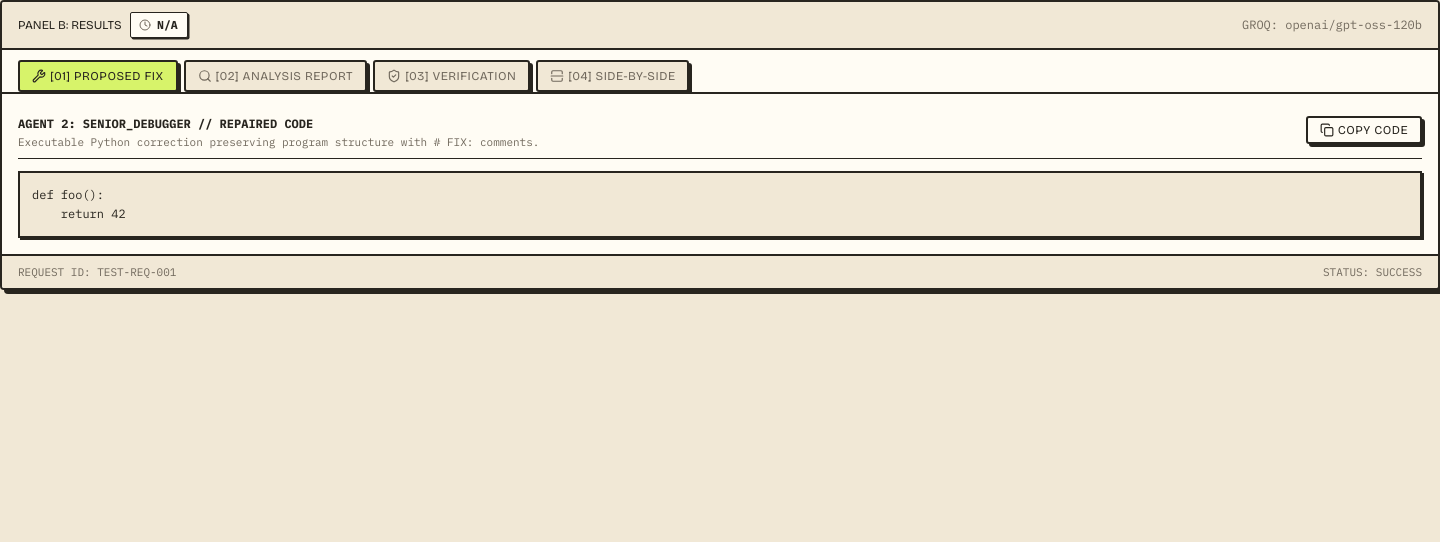
ResultsView Tabs & Integration Suite › allows seamless switching across all 4 results tabs including diff
Expected: the text "AGENT 2: SENIOR_DEBUGGER // REPAIRED CODE" is shown, [18,116,313,131]
What coordinates should you click on to do the following:
click the button "[02] ANALYSIS REPORT"
I would click on:
 (275, 76)
Its box is [184,60,367,92].
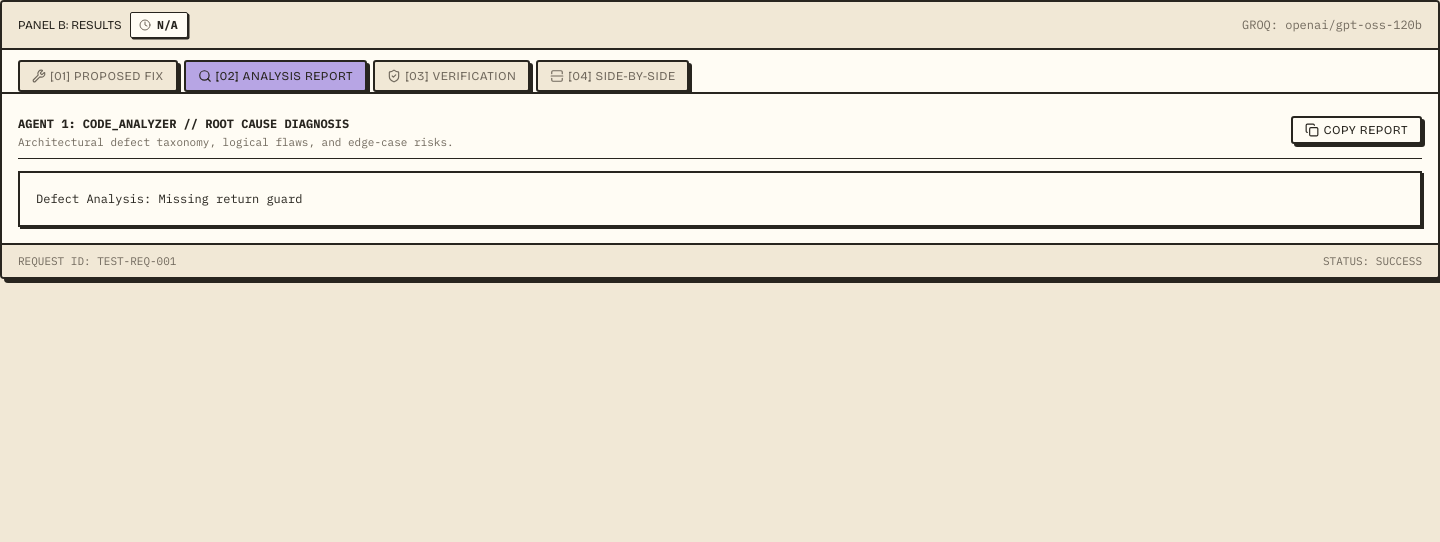
Expected: the text "AGENT 1: CODE_ANALYZER // ROOT CAUSE DIAGNOSIS" is shown, [18,116,349,131]
Expected: the text "Defect Analysis: Missing return guard" is shown, [18,171,1422,227]
What coordinates should you click on to do the following:
click the button "[03] VERIFICATION"
I would click on:
 (452, 76)
Its box is [373,60,530,92].
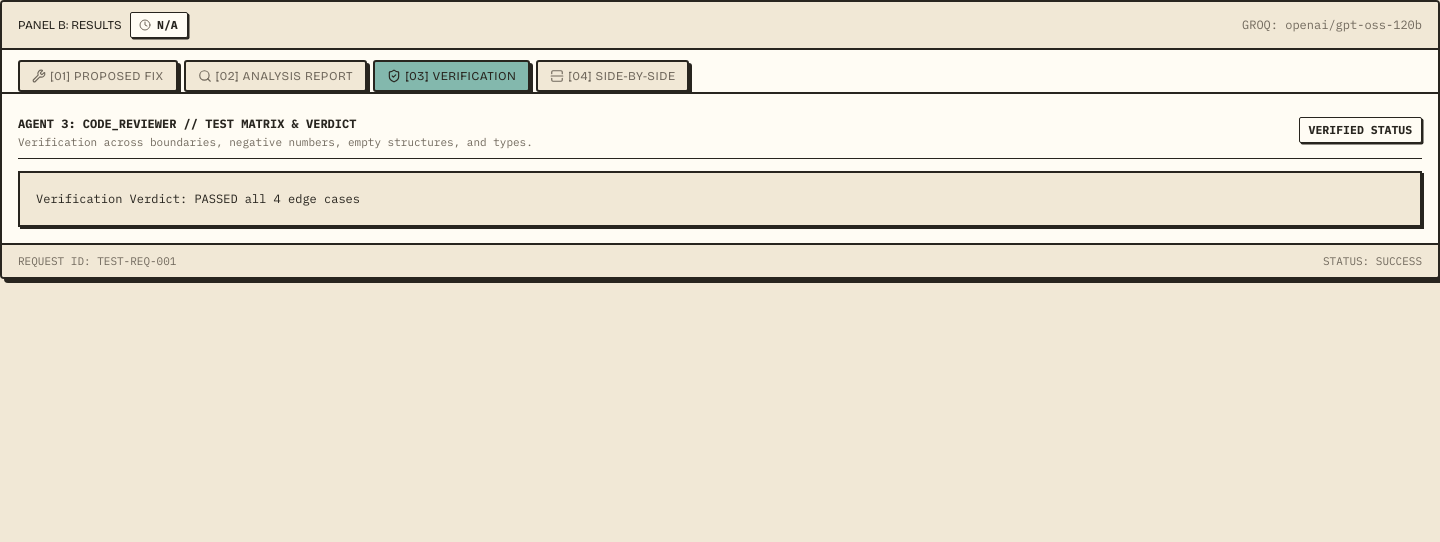
Expected: the text "AGENT 3: CODE_REVIEWER // TEST MATRIX & VERDICT" is shown, [18,116,356,131]
Expected: the text "Verification Verdict: PASSED all 4 edge cases" is shown, [18,171,1422,227]
What coordinates should you click on to do the following:
click the button "[04] SIDE-BY-SIDE"
I would click on:
 (613, 76)
Its box is [536,60,690,92].
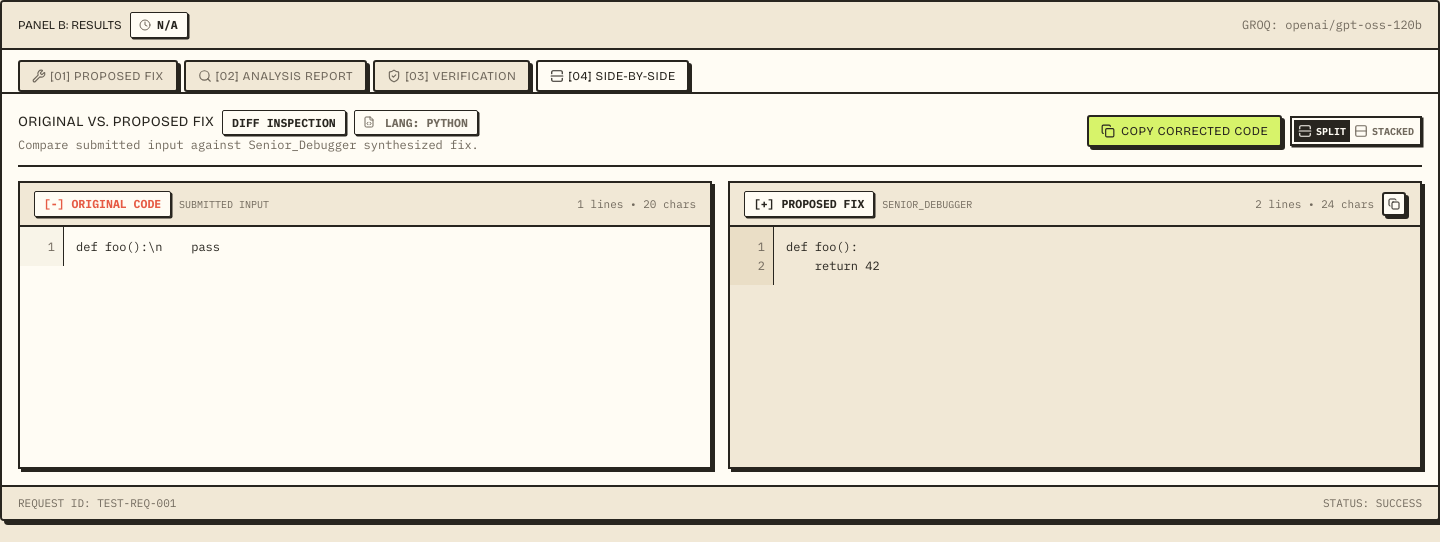
Expected: the heading "ORIGINAL VS. PROPOSED FIX" is shown, [18,112,214,132]
Expected: the text "[-] ORIGINAL CODE" is shown, [34,191,171,217]
Expected: the text "[+] PROPOSED FIX" is shown, [744,191,874,217]
Note: Can switch back to Proposed Fix
What coordinates should you click on to do the following:
click the button "[01] PROPOSED FIX"
I would click on:
 (98, 76)
Its box is [18,60,178,92].
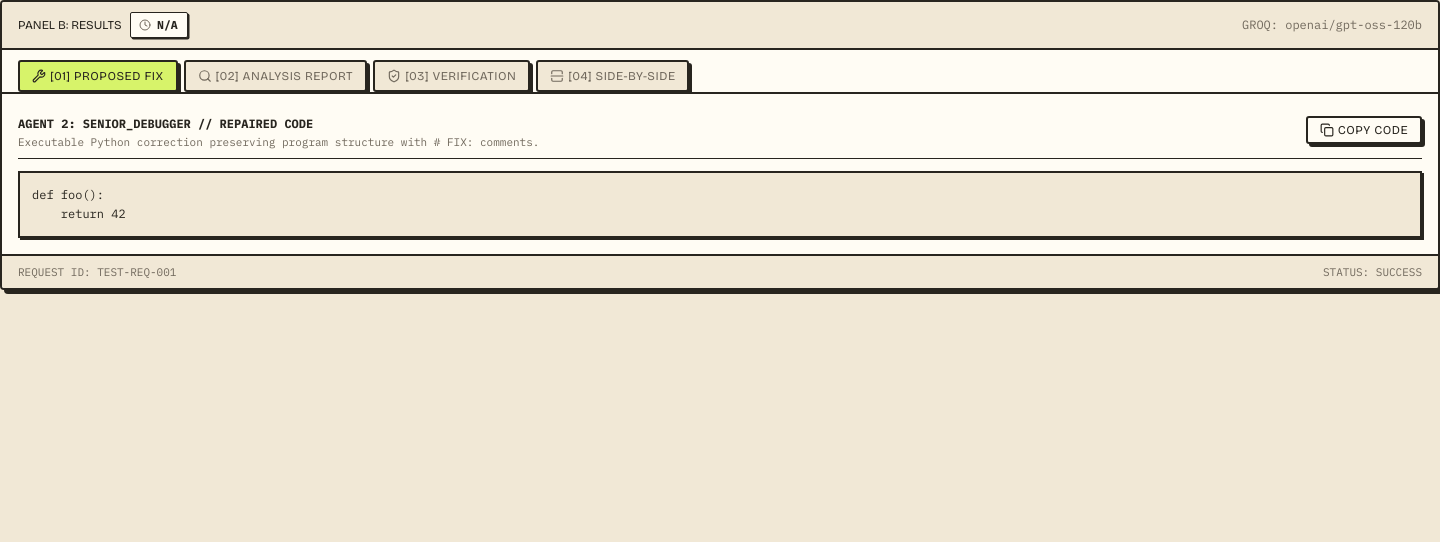
Expected: the text "AGENT 2: SENIOR_DEBUGGER // REPAIRED CODE" is shown, [18,116,313,131]
